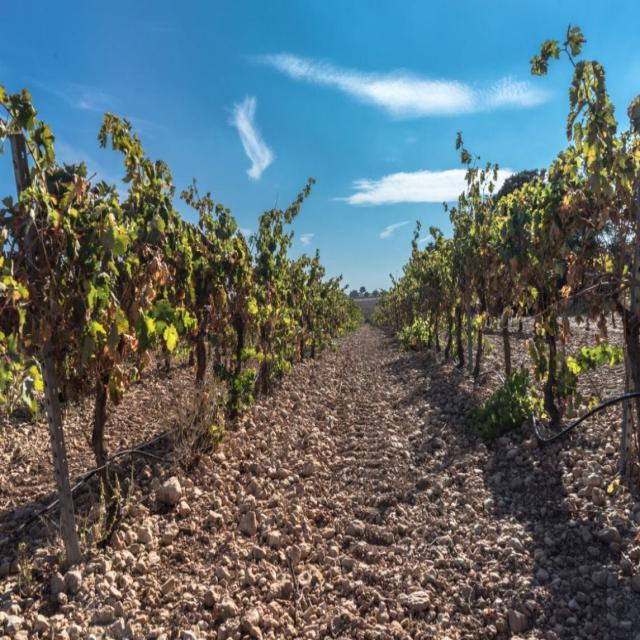row: (3, 319, 640, 639)
